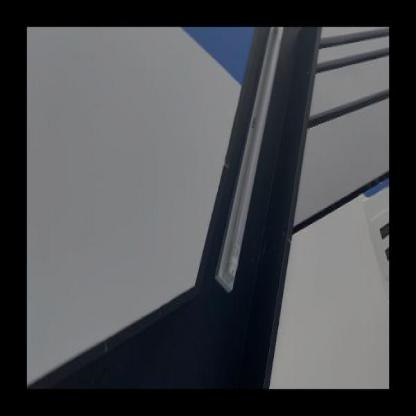light_off: (211, 29, 288, 304)
